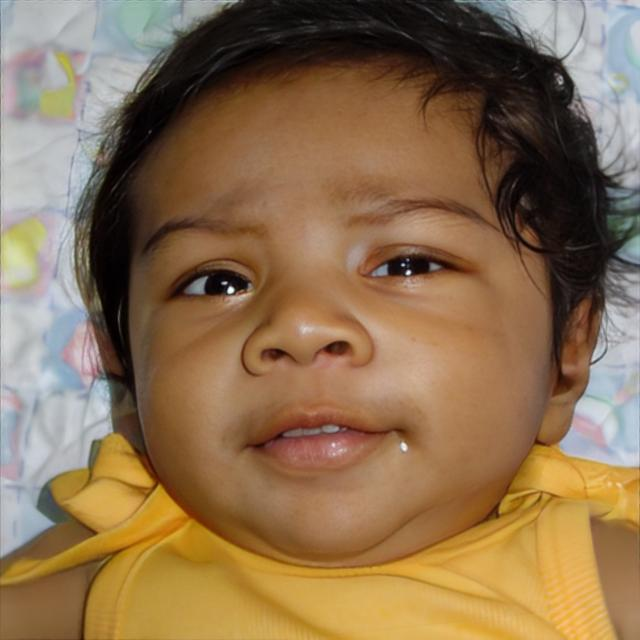neutral: (125, 53, 538, 563)
